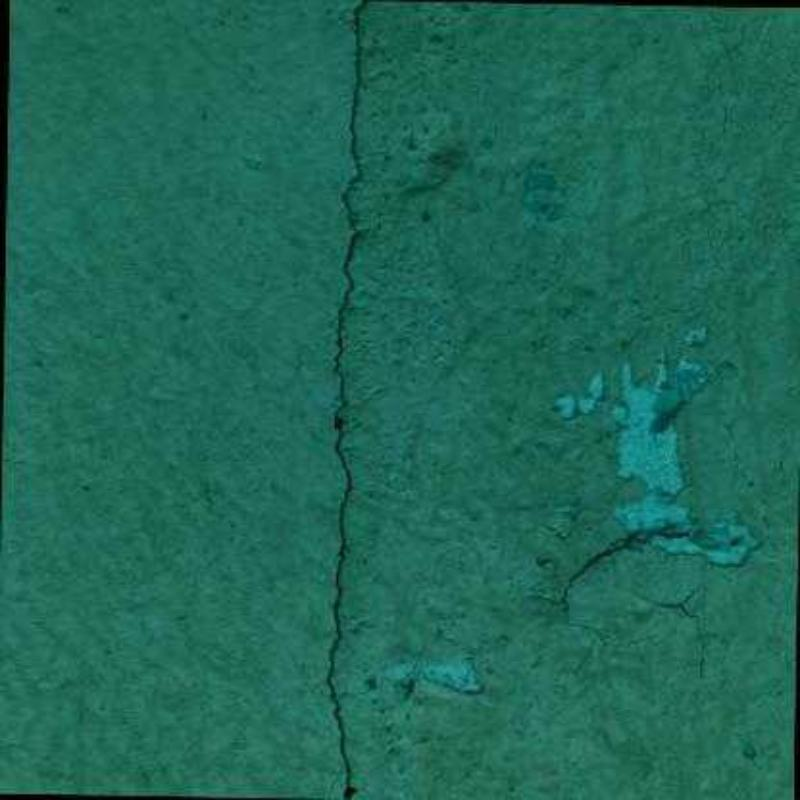crack: (326, 2, 366, 798), (535, 523, 690, 612), (637, 588, 696, 617), (631, 540, 644, 548)
